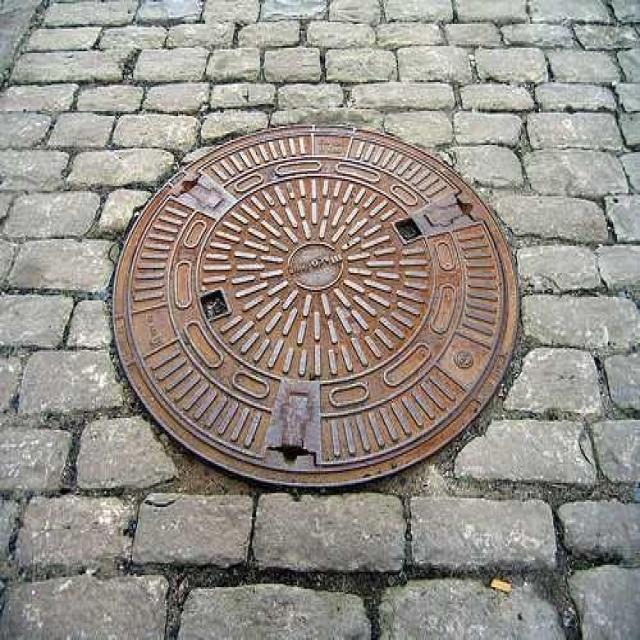manhole: (108, 123, 525, 493)
